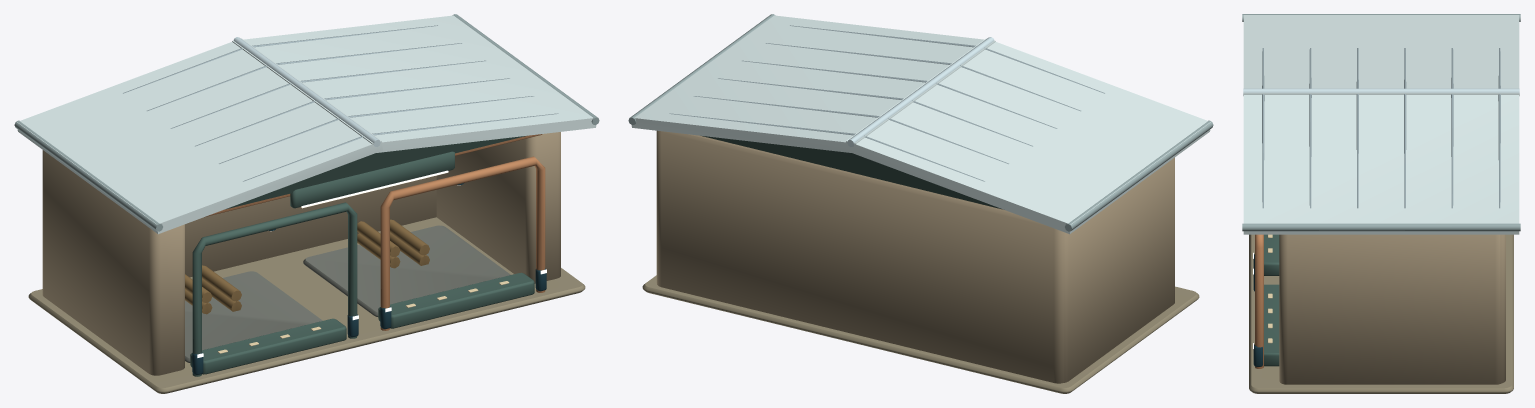
The model's file is wilderness_haulage.glb.
3 renders of one model, left to right at view 1: azimuth 30°, elevation 25°; view 2: azimuth 150°, elevation 25°; view 3: azimuth 270°, elevation 25°, orthographic.
Visible parts, largest first — view 1: WildernessHaulage; view 2: WildernessHaulage; view 3: WildernessHaulage.
Boxes of the visible parts, left/top/right/bottom form: WildernessHaulage: left=14, top=14, right=599, bottom=393; WildernessHaulage: left=628, top=14, right=1213, bottom=393; WildernessHaulage: left=1242, top=14, right=1520, bottom=393.
Size of the model in its own units: 12.59 by 5.6 by 6.95.
